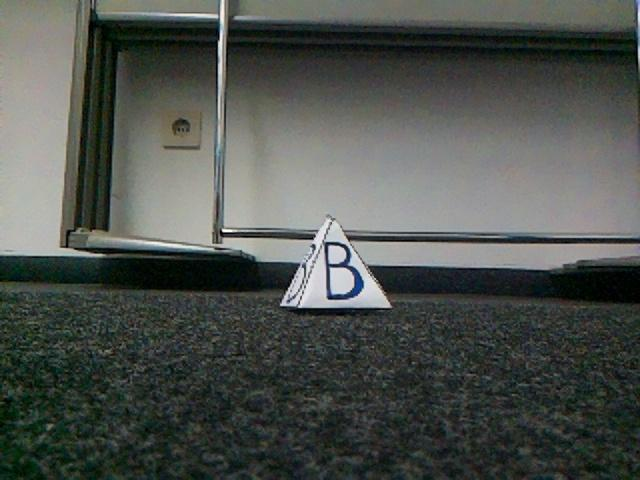B: (284, 217, 392, 309)
